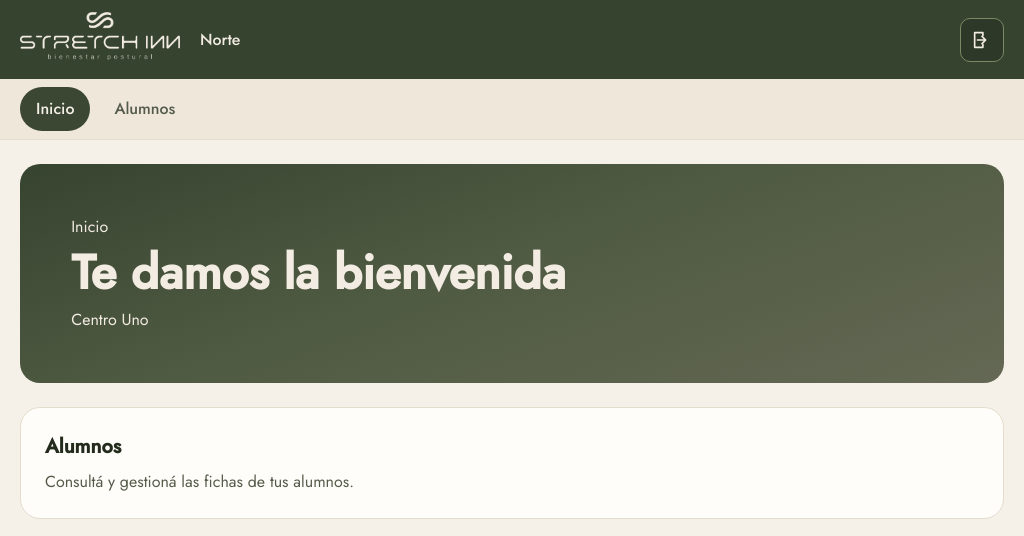
Test case: lista › sin alumnos lo dice, en vez de mostrar una tabla vacía
Click the link "Alumnos" at {"x": 145, "y": 109}, box [114,97,175,120]
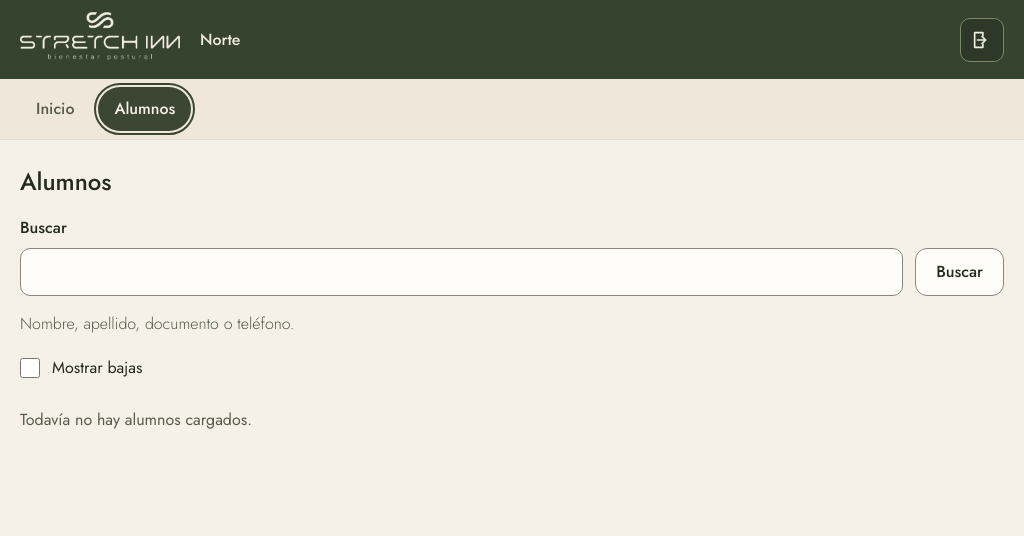
Expected: the heading "Alumnos" is shown, [20,164,111,200]
Expected: the text "Todavía no hay alumnos cargados." is shown, [20,408,252,431]
